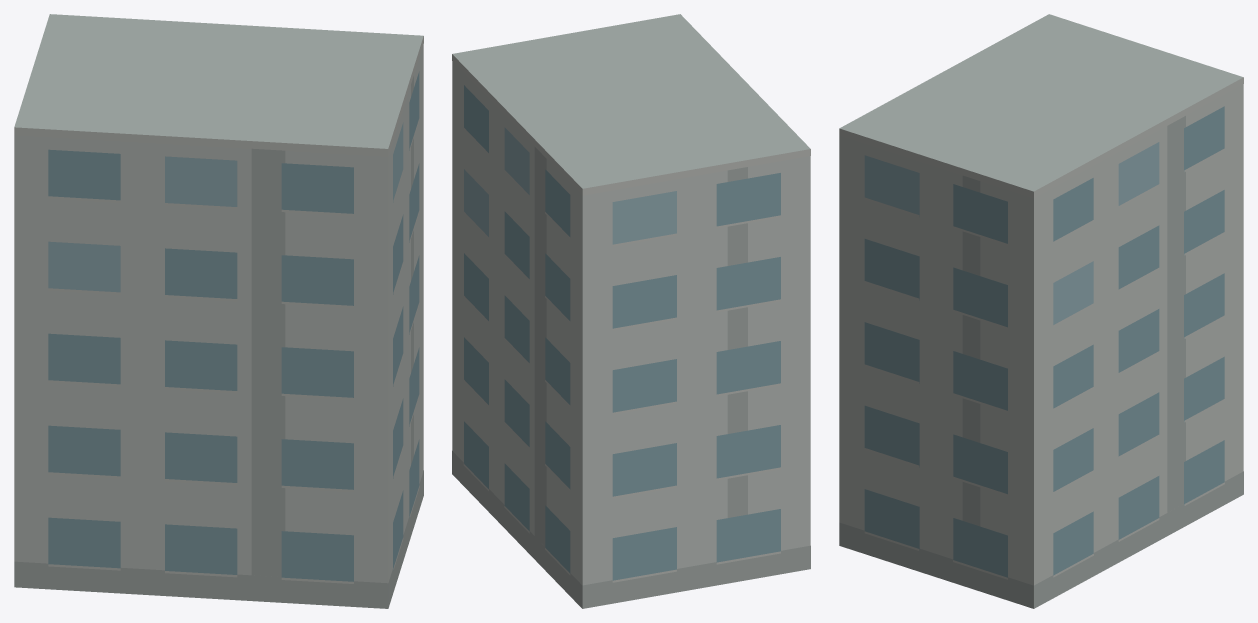
File: survey-upis-32723428.glb
The picture shows the model from 3 angles, left to right: view 1: azimuth 30°, elevation 25°; view 2: azimuth 150°, elevation 25°; view 3: azimuth 270°, elevation 25°; orthographic projection. The views are drawn at different scales.
Visible parts, largest first — view 1: survey-upis-32723428.tmp; view 2: survey-upis-32723428.tmp; view 3: survey-upis-32723428.tmp.
Part boxes in pixels (x1=…): survey-upis-32723428.tmp: x1=14, y1=14, x2=423, y2=608; survey-upis-32723428.tmp: x1=452, y1=14, x2=810, y2=608; survey-upis-32723428.tmp: x1=839, y1=14, x2=1243, y2=608.
Size of the model in its own units: 13.36 by 14.63 by 12.86.
